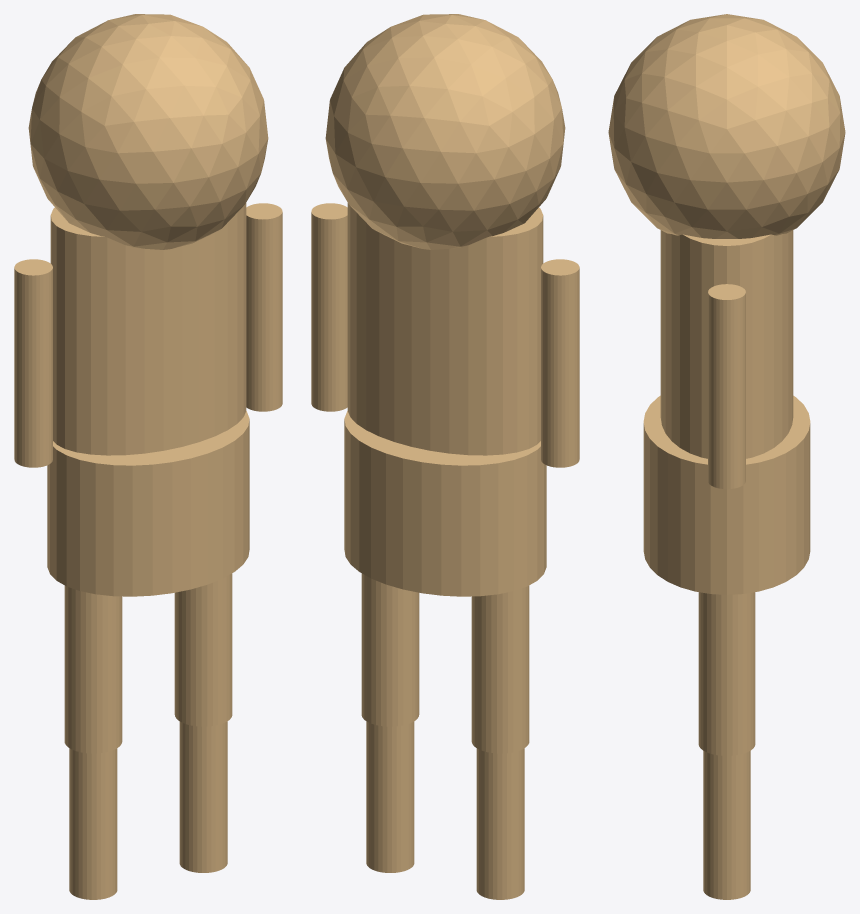
The picture shows the model from 3 angles, left to right: view 1: azimuth 30°, elevation 25°; view 2: azimuth 150°, elevation 25°; view 3: azimuth 270°, elevation 25°; orthographic projection.
Parts seen in each view (by area): view 1: Torso; view 2: Torso; view 3: Torso.
Boxes of the visible parts, left/top/right/bottom form: Torso: left=14, top=14, right=282, bottom=899; Torso: left=311, top=14, right=579, bottom=899; Torso: left=608, top=14, right=845, bottom=899.
Size of the model in its own units: 0.63 by 1.95 by 0.5.
